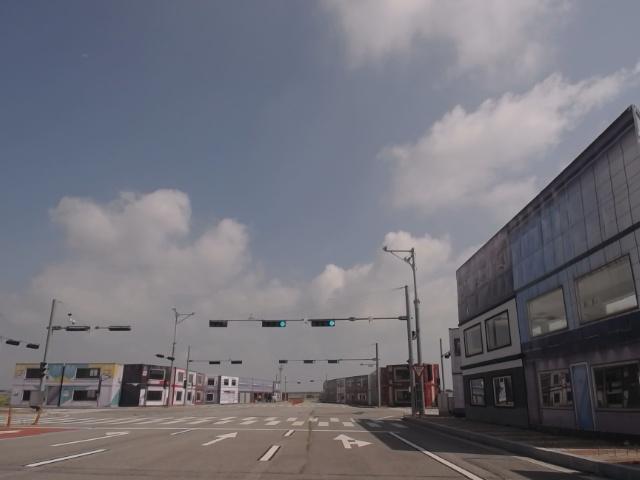straight_green_4: (261, 320, 287, 328), (311, 320, 336, 327)
